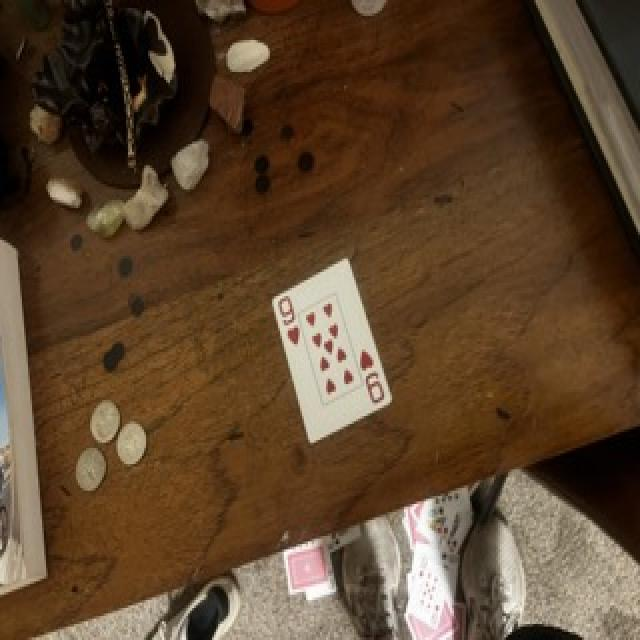9 of hearts: (272, 258, 391, 442)
